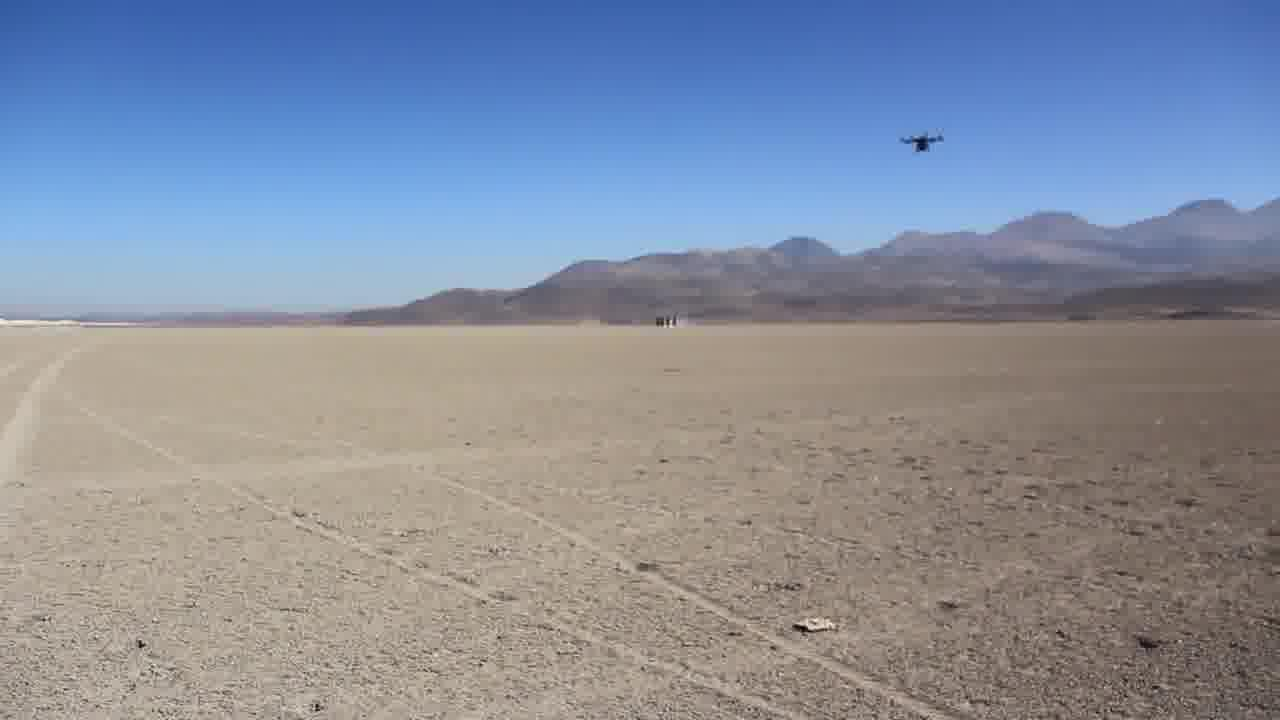drone: (897, 124, 945, 155)
